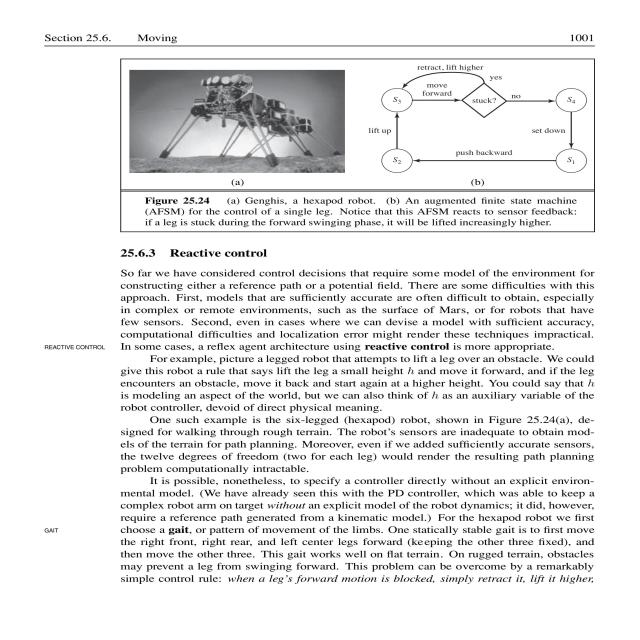diagram: (106, 54, 625, 238)
